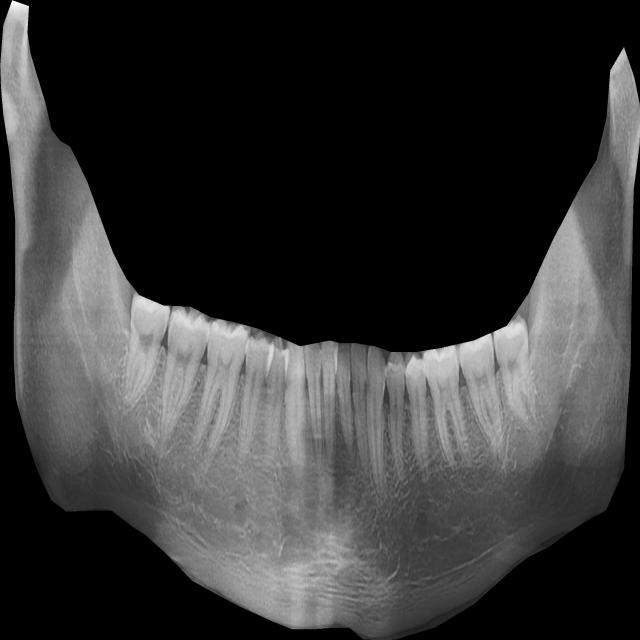mandibula: (0, 0, 640, 640)
